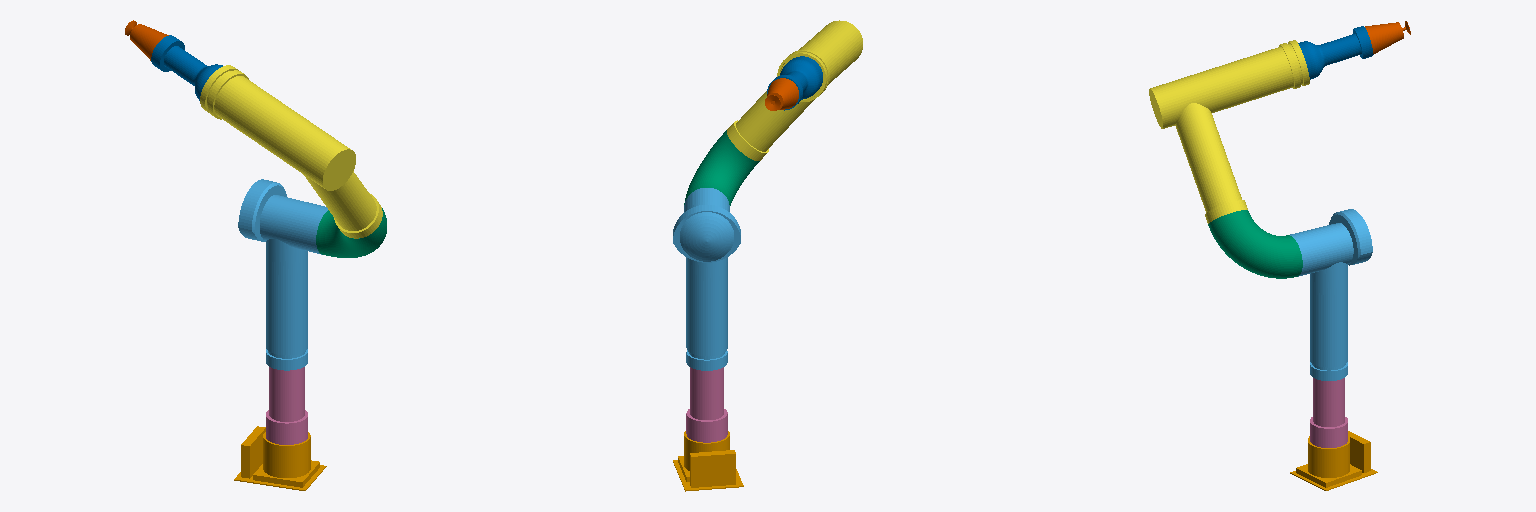
robot.urdf — ROBOT_FINAL:
<?xml version="1.0" ?>
<robot name="ROBOT_FINAL">

<material name="silver">
  <color rgba="0.700 0.700 0.700 1.000"/>
</material>

<link name="base_link">
  <inertial>
    <origin xyz="-0.10192284493940088 0.04845423679588635 0.015724151288992037" rpy="0 0 0"/>
    <mass value="59.1763534960198"/>
    <inertia ixx="0.4391771799840504" iyy="0.4121513989308282" izz="0.5168101976932878" ixy="0.07663541037404925" iyz="0.007343152940052132" ixz="-0.006161636923677397"/>
  </inertial>
  <visual>
    <origin xyz="0 0 0" rpy="0 0 0"/>
    <geometry>
      <mesh filename="meshes/base_link.stl" scale="0.001 0.001 0.001"/>
    </geometry>
    <material name="silver"/>
    <material/>
  </visual>
  <collision>
    <origin xyz="0 0 0" rpy="0 0 0"/>
    <geometry>
      <mesh filename="meshes/base_link.stl" scale="0.001 0.001 0.001"/>
    </geometry>
  </collision>
</link>

<link name="link_21">
  <inertial>
    <origin xyz="0.08539140408249522 0.023118789546903162 0.44852230574442387" rpy="0 0 0"/>
    <mass value="146.86583673120967"/>
    <inertia ixx="5.395430070298431" iyy="4.904059365302544" izz="1.9550553816715237" ixy="0.425540157534836" iyz="-0.16218224715174046" ixz="0.0936368172782096"/>
  </inertial>
  <visual>
    <origin xyz="0.174012 -0.011163 -0.82881" rpy="0 0 0"/>
    <geometry>
      <mesh filename="meshes/link_21.stl" scale="0.001 0.001 0.001"/>
    </geometry>
    <material name="silver"/>
    <material/>
  </visual>
  <collision>
    <origin xyz="0.174012 -0.011163 -0.82881" rpy="0 0 0"/>
    <geometry>
      <mesh filename="meshes/link_21.stl" scale="0.001 0.001 0.001"/>
    </geometry>
  </collision>
</link>

<link name="link_31">
  <inertial>
    <origin xyz="0.035387126886288256 -0.1704174325735872 0.06394117359437868" rpy="0 0 0"/>
    <mass value="96.59806143551319"/>
    <inertia ixx="1.4621241084254848" iyy="0.7662963658487172" izz="1.1806155612795912" ixy="-0.035542319124014066" iyz="0.44431614115963924" ixz="0.021738043510370453"/>
  </inertial>
  <visual>
    <origin xyz="-0.01449 0.14431 -1.347407" rpy="0 0 0"/>
    <geometry>
      <mesh filename="meshes/link_31.stl" scale="0.001 0.001 0.001"/>
    </geometry>
    <material name="silver"/>
    <material/>
  </visual>
  <collision>
    <origin xyz="-0.01449 0.14431 -1.347407" rpy="0 0 0"/>
    <geometry>
      <mesh filename="meshes/link_31.stl" scale="0.001 0.001 0.001"/>
    </geometry>
  </collision>
</link>

<link name="link_41">
  <inertial>
    <origin xyz="-0.25764434364899735 -0.0795109963733251 0.3398399600648785" rpy="0 0 0"/>
    <mass value="213.37931082123225"/>
    <inertia ixx="10.92649634178315" iyy="10.878628905953406" izz="8.733092674761664" ixy="0.6943964223513355" iyz="-0.34745355493566876" ixz="4.717205937961282"/>
  </inertial>
  <visual>
    <origin xyz="0.000485 0.441629 -1.536817" rpy="0 0 0"/>
    <geometry>
      <mesh filename="meshes/link_41.stl" scale="0.001 0.001 0.001"/>
    </geometry>
    <material name="silver"/>
    <material/>
  </visual>
  <collision>
    <origin xyz="0.000485 0.441629 -1.536817" rpy="0 0 0"/>
    <geometry>
      <mesh filename="meshes/link_41.stl" scale="0.001 0.001 0.001"/>
    </geometry>
  </collision>
</link>

<link name="lnk_51">
  <inertial>
    <origin xyz="0.803604192399954 1.450452143934748 -0.6403904836412573" rpy="0 0 0"/>
    <mass value="118.41031598874119"/>
    <inertia ixx="4.616156542169961" iyy="0.949578489693863" izz="4.742289367800513" ixy="1.1342013211731246" iyz="-0.8850202557564373" ixz="0.2516358230589191"/>
  </inertial>
  <visual>
    <origin xyz="1.265014 1.649818 -2.731034" rpy="0 0 0"/>
    <geometry>
      <mesh filename="meshes/lnk_51.stl" scale="0.001 0.001 0.001"/>
    </geometry>
    <material name="silver"/>
    <material/>
  </visual>
  <collision>
    <origin xyz="1.265014 1.649818 -2.731034" rpy="0 0 0"/>
    <geometry>
      <mesh filename="meshes/lnk_51.stl" scale="0.001 0.001 0.001"/>
    </geometry>
  </collision>
</link>

<link name="gripper1">
  <inertial>
    <origin xyz="-0.01838658784817726 0.06468101310006028 0.014358892728116857" rpy="0 0 0"/>
    <mass value="12.708092342308806"/>
    <inertia ixx="0.03735618073785929" iyy="0.02342225040371204" izz="0.03782649730390464" ixy="0.004303496303755594" iyz="-0.003374996876861047" ixz="0.0009582701382200298"/>
  </inertial>
  <visual>
    <origin xyz="0.578192 -0.211365 -2.181769" rpy="0 0 0"/>
    <geometry>
      <mesh filename="meshes/gripper1.stl" scale="0.001 0.001 0.001"/>
    </geometry>
    <material name="silver"/>
    <material/>
  </visual>
  <collision>
    <origin xyz="0.578192 -0.211365 -2.181769" rpy="0 0 0"/>
    <geometry>
      <mesh filename="meshes/gripper1.stl" scale="0.001 0.001 0.001"/>
    </geometry>
  </collision>
</link>

<link name="link_11">
  <inertial>
    <origin xyz="-3.515758453392914e-07 -4.1113356004027213e-07 0.2829191951006703" rpy="0 0 0"/>
    <mass value="89.33629219288787"/>
    <inertia ixx="2.995471328070323" iyy="2.9954713280702965" izz="0.27597839519120815" ixy="6.938893903907228e-16" iyz="-3.9968028886505635e-15" ixz="-7.105427357601002e-15"/>
  </inertial>
  <visual>
    <origin xyz="0.08551 -0.028895 -0.114405" rpy="0 0 0"/>
    <geometry>
      <mesh filename="meshes/link_11.stl" scale="0.001 0.001 0.001"/>
    </geometry>
    <material name="silver"/>
    <material/>
  </visual>
  <collision>
    <origin xyz="0.08551 -0.028895 -0.114405" rpy="0 0 0"/>
    <geometry>
      <mesh filename="meshes/link_11.stl" scale="0.001 0.001 0.001"/>
    </geometry>
  </collision>
</link>

<joint name="Slider_1" type="prismatic">
  <origin xyz="-0.088502 -0.017732 0.714405" rpy="0 0 0"/>
  <parent link="link_11"/>
  <child link="link_21"/>
  <axis xyz="-0.0 -0.0 1.0"/>
  <limit upper="-0.0037" lower="-0.47" effort="100" velocity="100"/>
</joint>
<transmission name="Slider_1_tran">
  <type>transmission_interface/SimpleTransmission</type>
  <joint name="Slider_1">
    <hardwareInterface>PositionJointInterface</hardwareInterface>
  </joint>
  <actuator name="Slider_1_actr">
    <hardwareInterface>PositionJointInterface</hardwareInterface>
    <mechanicalReduction>1</mechanicalReduction>
  </actuator>
</transmission>

<joint name="Revolute_2" type="continuous">
  <origin xyz="0.188502 -0.155473 0.518597" rpy="0 0 0"/>
  <parent link="link_21"/>
  <child link="link_31"/>
  <axis xyz="0.5 -0.866025 -0.0"/>
</joint>
<transmission name="Revolute_2_tran">
  <type>transmission_interface/SimpleTransmission</type>
  <joint name="Revolute_2">
    <hardwareInterface>PositionJointInterface</hardwareInterface>
  </joint>
  <actuator name="Revolute_2_actr">
    <hardwareInterface>PositionJointInterface</hardwareInterface>
    <mechanicalReduction>1</mechanicalReduction>
  </actuator>
</transmission>

<joint name="Revolute_3" type="continuous">
  <origin xyz="-0.014975 -0.297319 0.18941" rpy="0 0 0"/>
  <parent link="link_31"/>
  <child link="link_41"/>
  <axis xyz="-0.560138 -0.32803 0.760686"/>
</joint>
<transmission name="Revolute_3_tran">
  <type>transmission_interface/SimpleTransmission</type>
  <joint name="Revolute_3">
    <hardwareInterface>PositionJointInterface</hardwareInterface>
  </joint>
  <actuator name="Revolute_3_actr">
    <hardwareInterface>PositionJointInterface</hardwareInterface>
    <mechanicalReduction>1</mechanicalReduction>
  </actuator>
</transmission>

<joint name="Slider_4" type="prismatic">
  <origin xyz="-1.264529 -1.208189 1.194217" rpy="0 0 0"/>
  <parent link="link_41"/>
  <child link="lnk_51"/>
  <axis xyz="-0.267465 0.940694 0.208704"/>
  <limit upper="0.35" lower="0.0" effort="100" velocity="100"/>
</joint>
<transmission name="Slider_4_tran">
  <type>transmission_interface/SimpleTransmission</type>
  <joint name="Slider_4">
    <hardwareInterface>PositionJointInterface</hardwareInterface>
  </joint>
  <actuator name="Slider_4_actr">
    <hardwareInterface>PositionJointInterface</hardwareInterface>
    <mechanicalReduction>1</mechanicalReduction>
  </actuator>
</transmission>

<joint name="Revolute_6" type="continuous">
  <origin xyz="0.686822 1.861183 -0.549265" rpy="0 0 0"/>
  <parent link="lnk_51"/>
  <child link="gripper1"/>
  <axis xyz="-0.267465 0.940694 0.208704"/>
</joint>
<transmission name="Revolute_6_tran">
  <type>transmission_interface/SimpleTransmission</type>
  <joint name="Revolute_6">
    <hardwareInterface>PositionJointInterface</hardwareInterface>
  </joint>
  <actuator name="Revolute_6_actr">
    <hardwareInterface>PositionJointInterface</hardwareInterface>
    <mechanicalReduction>1</mechanicalReduction>
  </actuator>
</transmission>

<joint name="Revolute_1" type="continuous">
  <origin xyz="-0.08551 0.028895 0.114405" rpy="0 0 0"/>
  <parent link="base_link"/>
  <child link="link_11"/>
  <axis xyz="-0.0 -0.0 1.0"/>
</joint>
<transmission name="Revolute_1_tran">
  <type>transmission_interface/SimpleTransmission</type>
  <joint name="Revolute_1">
    <hardwareInterface>PositionJointInterface</hardwareInterface>
  </joint>
  <actuator name="Revolute_1_actr">
    <hardwareInterface>PositionJointInterface</hardwareInterface>
    <mechanicalReduction>1</mechanicalReduction>
  </actuator>
</transmission>

</robot>

--- Facts derived from the render (not from the file) ---
The picture shows the robot from 3 angles, left to right: view 1: azimuth 30°, elevation 25°; view 2: azimuth 150°, elevation 25°; view 3: azimuth 270°, elevation 25°; orthographic projection.
Model ROBOT_FINAL with 7 links and 6 joints (4 continuous, 2 prismatic), rooted at base_link, posed joints at zero except 1 at the middle of their limits (Slider_1 = -0.2369).
Visible links, largest first — view 1: link_41, link_21, base_link, link_11, link_31, lnk_51, gripper1; view 2: link_21, link_41, base_link, link_11, link_31, lnk_51, gripper1; view 3: link_41, link_21, link_31, base_link, link_11, lnk_51, gripper1.
Link boxes in pixels (x1,y1,x2,y2): link_41: (200, 65, 382, 238); link_21: (238, 179, 327, 370); base_link: (234, 426, 326, 490); link_11: (266, 367, 307, 444); link_31: (316, 208, 386, 257); lnk_51: (151, 35, 222, 100); gripper1: (125, 20, 168, 60); link_21: (673, 188, 740, 370); link_41: (727, 20, 862, 160); base_link: (673, 431, 743, 491); link_11: (686, 367, 727, 442); link_31: (684, 130, 759, 205); lnk_51: (767, 56, 822, 110); gripper1: (765, 78, 798, 110); link_41: (1149, 40, 1309, 223); link_21: (1290, 209, 1372, 380); link_31: (1208, 210, 1302, 278); base_link: (1290, 431, 1377, 490); link_11: (1310, 378, 1347, 447); lnk_51: (1298, 26, 1373, 79); gripper1: (1365, 21, 1410, 53).
Bounding box of the posed robot: 0.8277 × 1.23 × 2.09 m (x, y, z).
7 mesh visuals loaded from 7 distinct referenced files (7 binary STL).